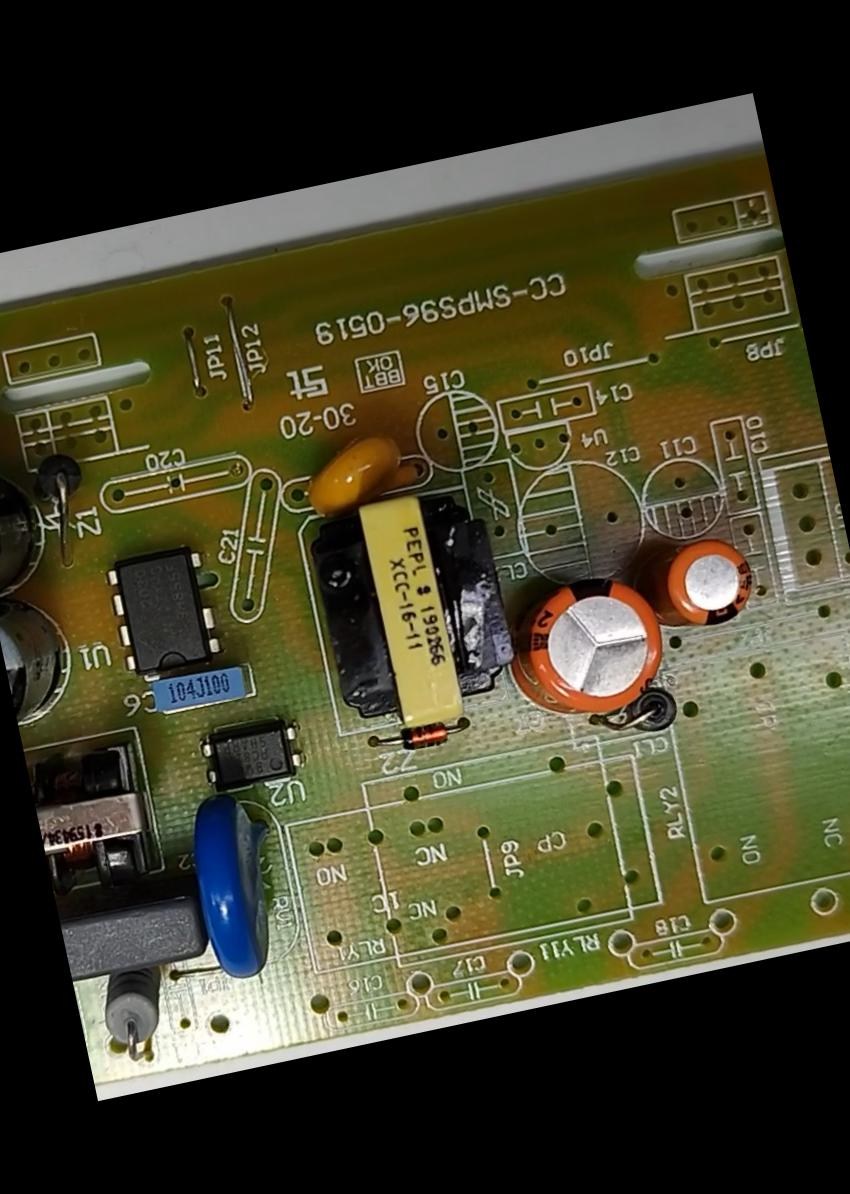Cap1: (492, 551, 693, 739)
Cap2: (642, 523, 780, 649)
Cap3: (0, 579, 78, 741)
Cap4: (0, 430, 84, 607)
MOSFET: (85, 525, 237, 699)
Mov: (165, 774, 295, 1002)
Resistor: (70, 948, 199, 1068)
Transformer: (270, 468, 550, 776), (21, 710, 194, 916)
